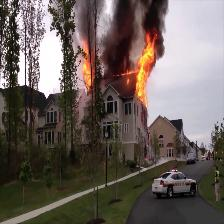fire: (132, 32, 156, 106)
smoke: (106, 0, 131, 76), (137, 0, 167, 28)
